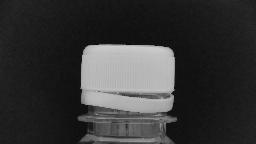Broken Ring: (82, 85, 176, 115)
